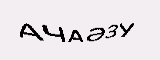В: (54, 14, 72, 37)
Е: (38, 16, 53, 37)
Н: (73, 14, 92, 33)
С: (109, 17, 122, 36)
Э: (93, 14, 110, 33)
